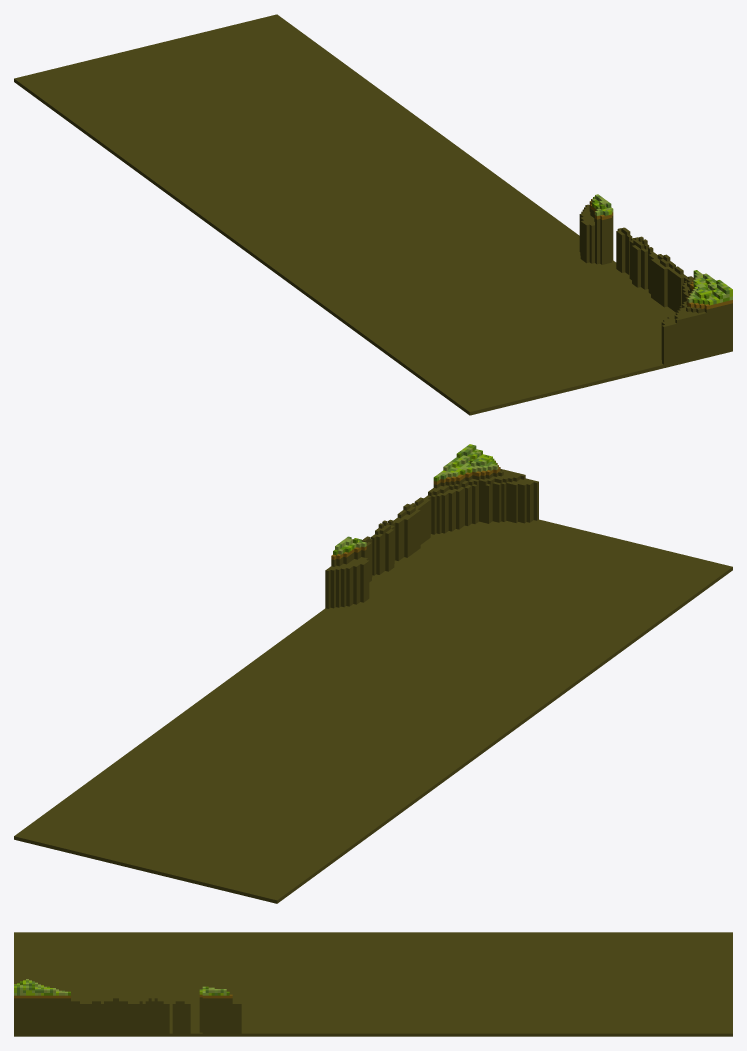
File: Tab D5-0.obj
The picture shows the model from 3 angles, top to bottom: view 1: azimuth 30°, elevation 25°; view 2: azimuth 150°, elevation 25°; view 3: azimuth 270°, elevation 25°; orthographic projection. The views are drawn at different scales.
Size of the model in its own units: 8 by 1.8 by 24.
1 material, 1 textured.
